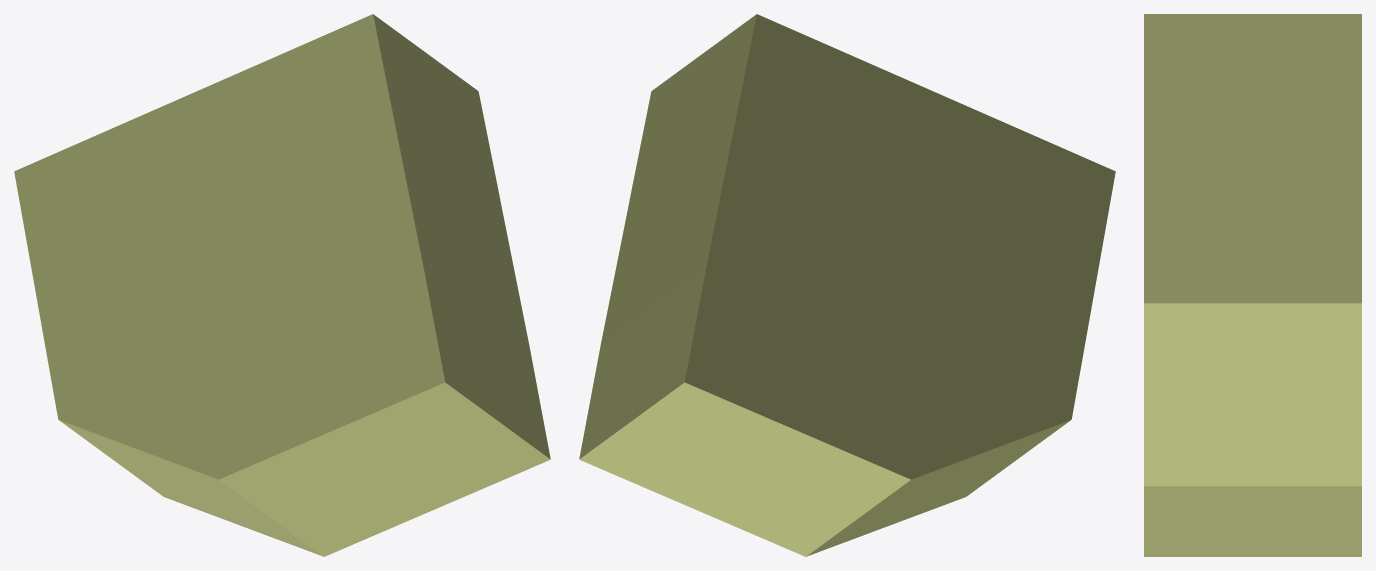
3 renders of one model, left to right at view 1: azimuth 30°, elevation 25°; view 2: azimuth 150°, elevation 25°; view 3: azimuth 270°, elevation 25°, orthographic. The views are drawn at different scales.
Parts seen in each view (by area): view 1: 0_1_3_2_1_2_2_3_0_3; view 2: 0_1_3_2_1_2_2_3_0_3; view 3: 0_1_3_2_1_2_2_3_0_3.
Part boxes in pixels (left/top/right/bottom): 0_1_3_2_1_2_2_3_0_3: left=14, top=14, right=550, bottom=556; 0_1_3_2_1_2_2_3_0_3: left=579, top=14, right=1115, bottom=556; 0_1_3_2_1_2_2_3_0_3: left=1144, top=14, right=1361, bottom=556.
Bounding box in the file's own units: 14.15 × 13.43 × 6.
